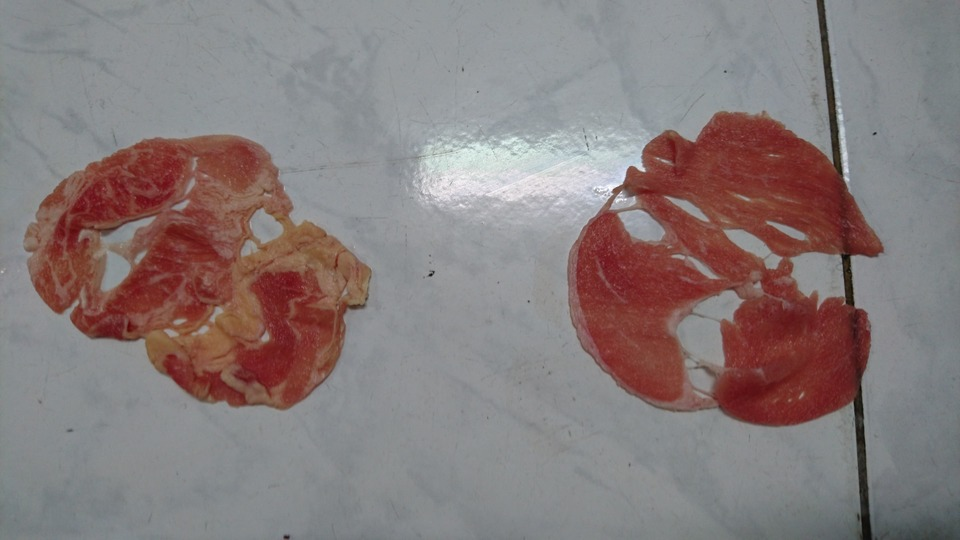restructured meat: (550, 81, 891, 443), (21, 125, 366, 412)
